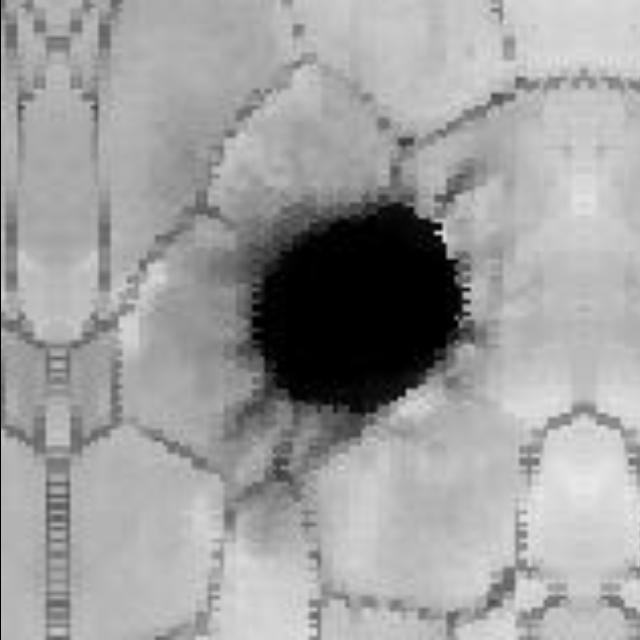good_void: (218, 158, 485, 452)
